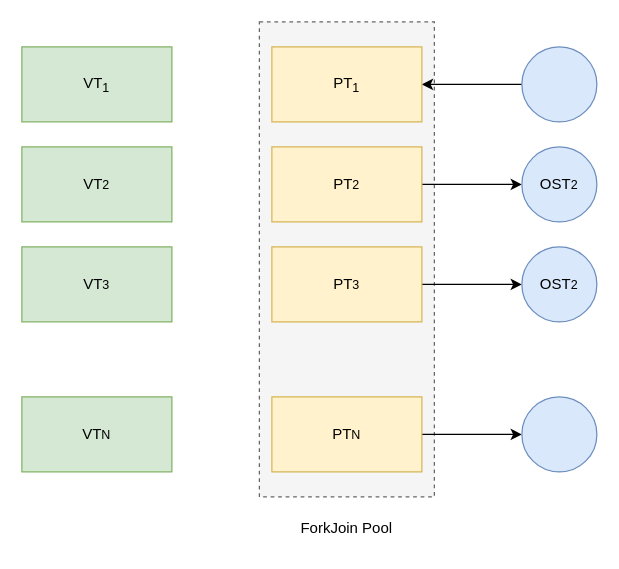
This 619x569 diagram has some shape labels left out. Each missing label, with the centre of its shape:
"OST 1" goes at pixel 559 84.
"OST N" goes at pixel 559 434.
